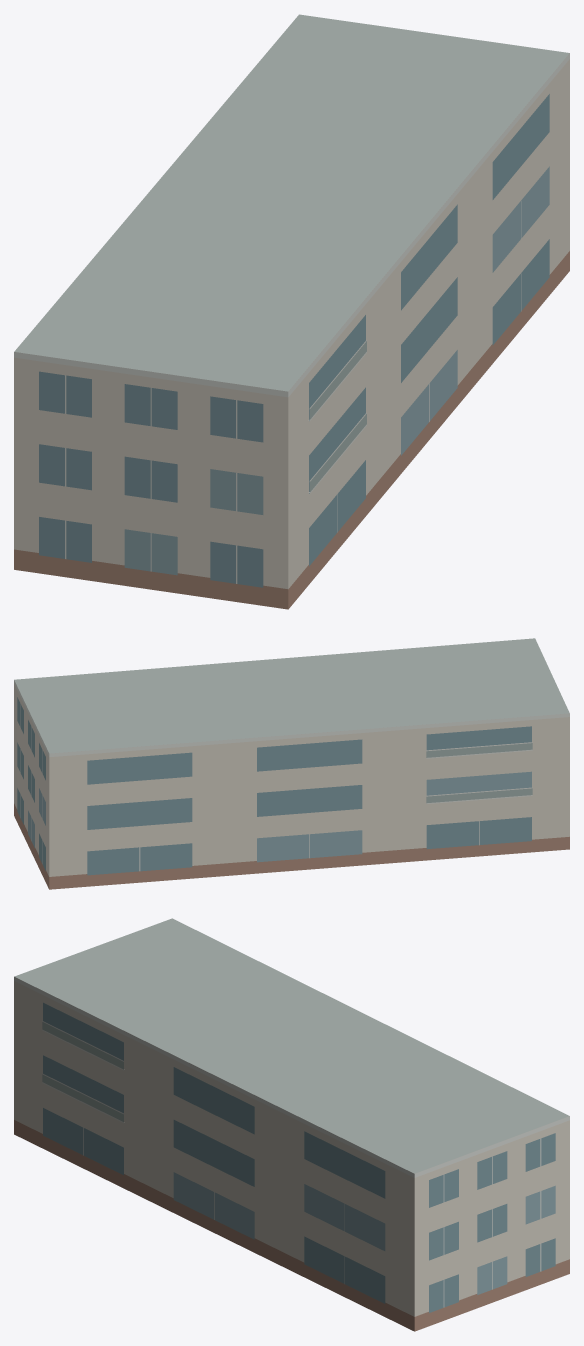
The model's file is survey-upis-33018492.glb.
The picture shows the model from 3 angles, top to bottom: view 1: azimuth 30°, elevation 25°; view 2: azimuth 150°, elevation 25°; view 3: azimuth 270°, elevation 25°; orthographic projection. The views are drawn at different scales.
Visible parts, largest first — view 1: survey-upis-33018492.tmp; view 2: survey-upis-33018492.tmp; view 3: survey-upis-33018492.tmp.
Boxes of the visible parts, x1=… form: survey-upis-33018492.tmp: x1=14, y1=14, x2=569, y2=609; survey-upis-33018492.tmp: x1=14, y1=638, x2=569, y2=889; survey-upis-33018492.tmp: x1=14, y1=918, x2=569, y2=1331.
Bounding box in the file's own units: 31.78 × 9.15 × 29.22.
